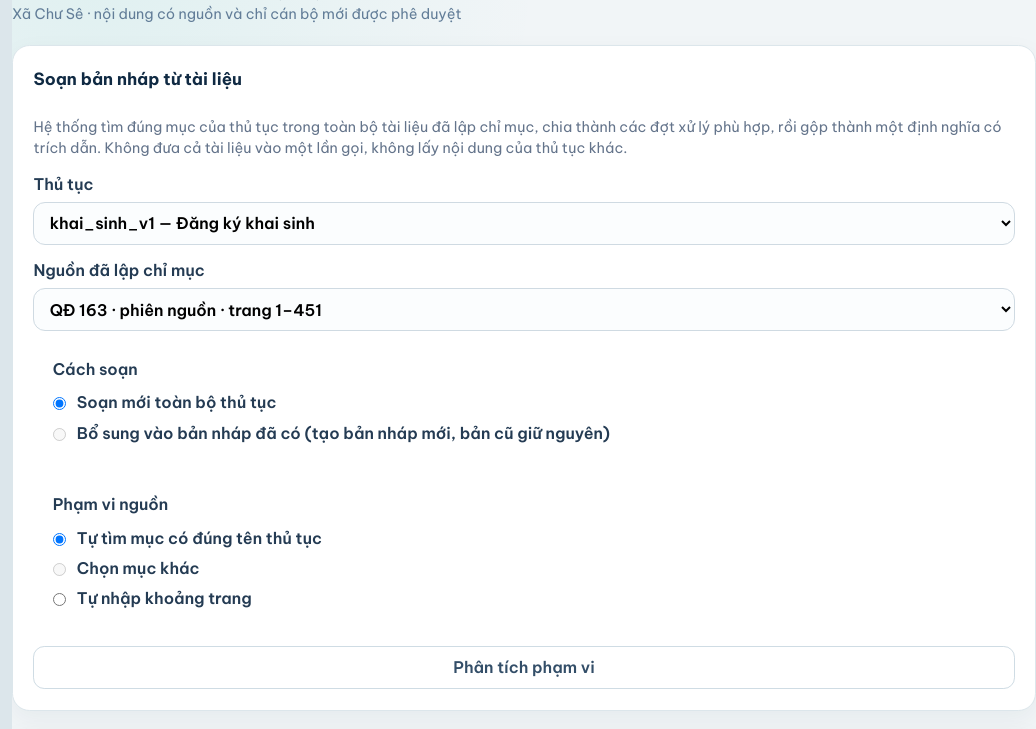
Test: DraftsPage long-document drafting › queues one job with the analysed body and a stable request id
Click the button "Phân tích phạm vi" at (524, 667), box [34, 646, 1015, 689]
(page scrolled)
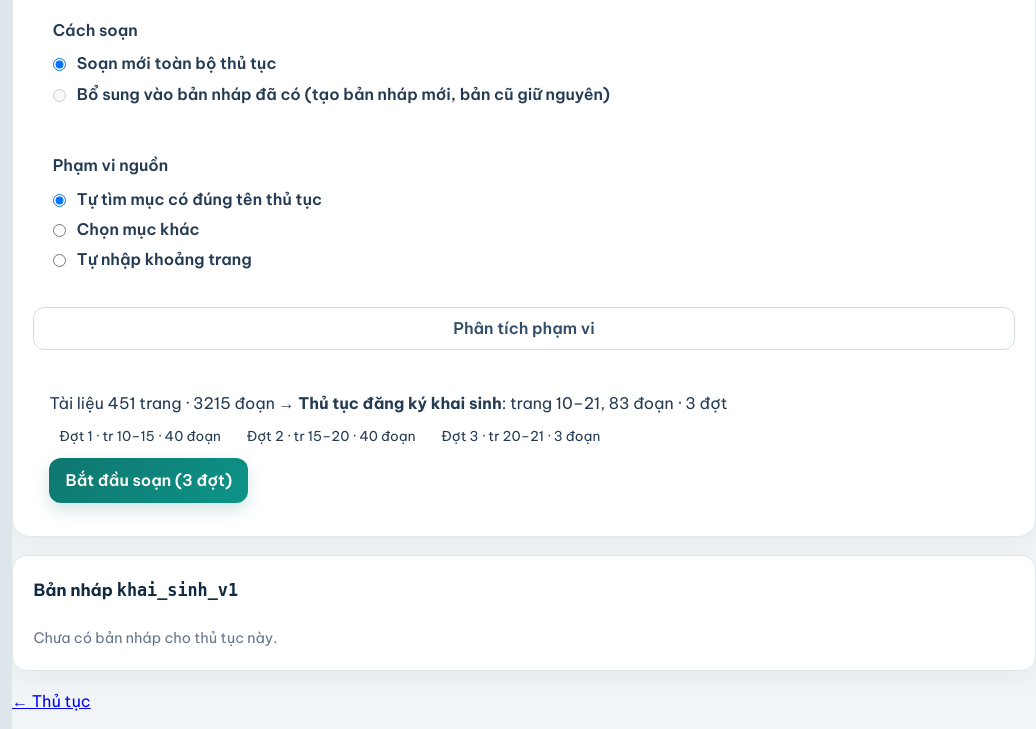
Click the button "Bắt đầu soạn (3 đợt)" at (149, 480), box [50, 458, 248, 502]
(page scrolled)
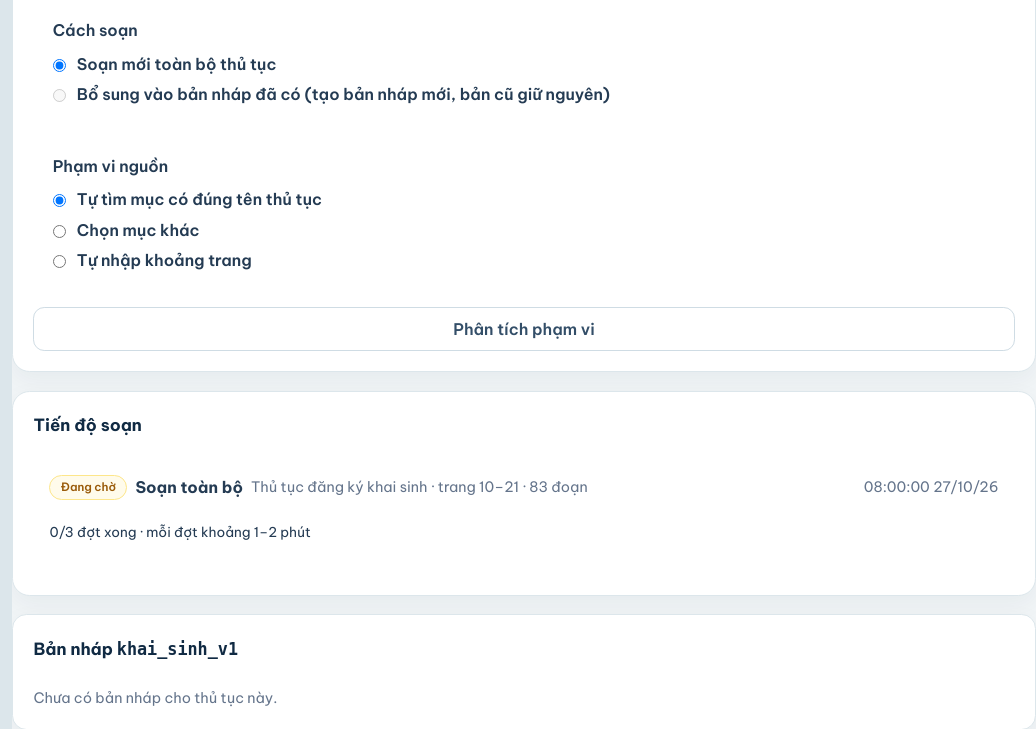
Expected: the element with class "dj-job" shows "0/3 đợt xong", [34, 463, 1015, 562]
